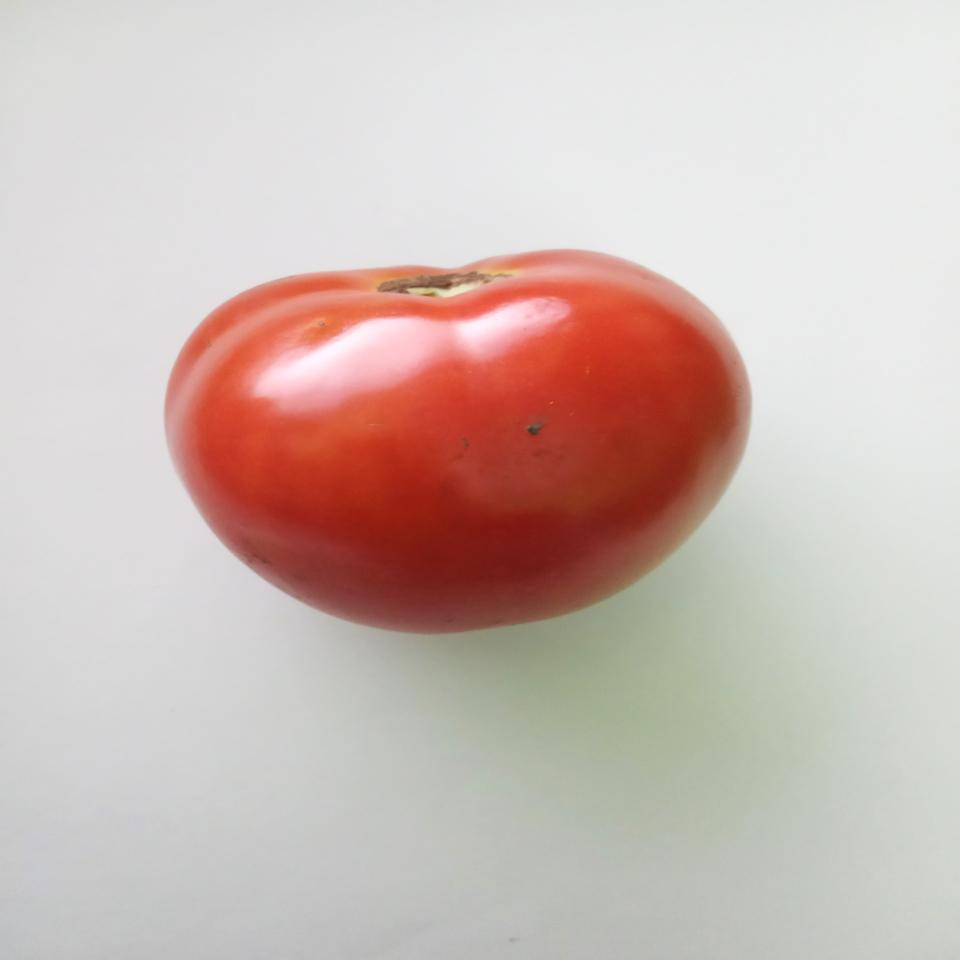Healthy: (148, 234, 762, 642)
